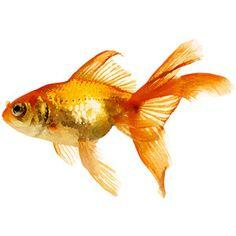goldfish: (1, 62, 188, 166)
